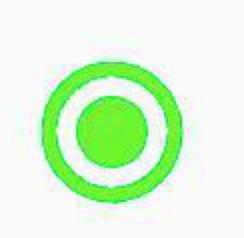RadioButton: (1, 1, 243, 237)
